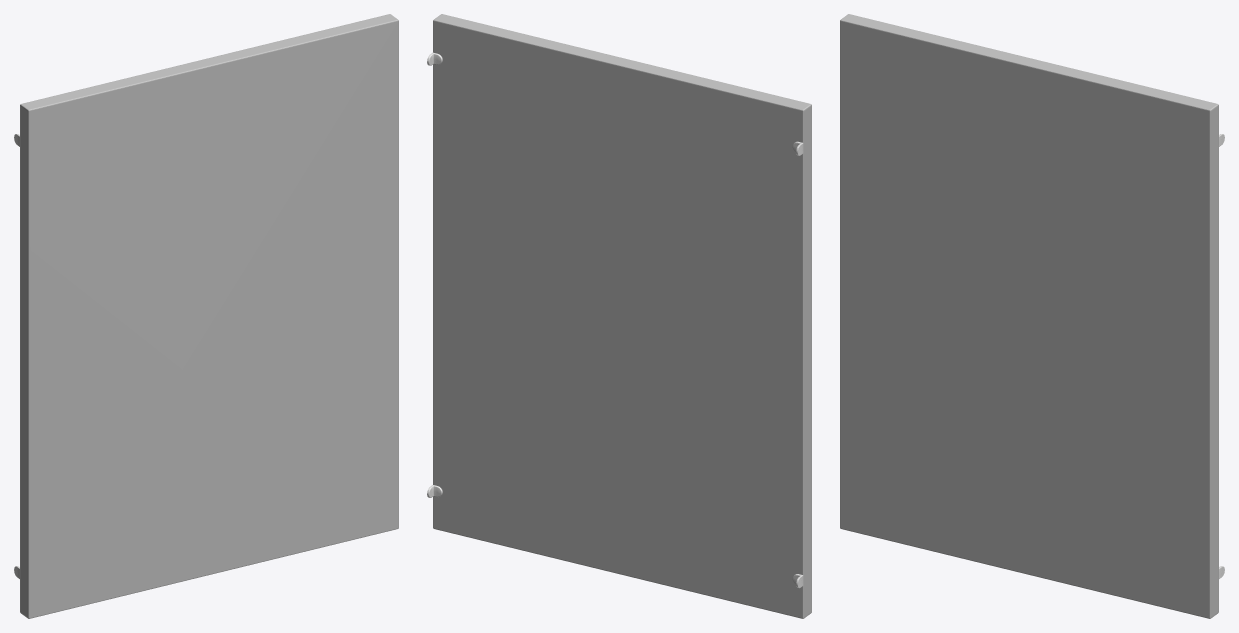
File: SM_Kitchen_02_Shelf.obj
3 renders of one model, left to right at view 1: azimuth 30°, elevation 25°; view 2: azimuth 150°, elevation 25°; view 3: azimuth 330°, elevation 25°, orthographic.
Parts seen in each view (by area): view 1: SM_Kitchen_02_Shelf; view 2: SM_Kitchen_02_Shelf; view 3: SM_Kitchen_02_Shelf.
Boxes of the visible parts, x1,y1,x2,y2 form: SM_Kitchen_02_Shelf: (14,14,398,618); SM_Kitchen_02_Shelf: (427,14,811,618); SM_Kitchen_02_Shelf: (840,14,1224,618).
Bounding box in the file's own units: 0.368 × 0.4829 × 0.0249.
Materials: 2 (1 with a texture image).
